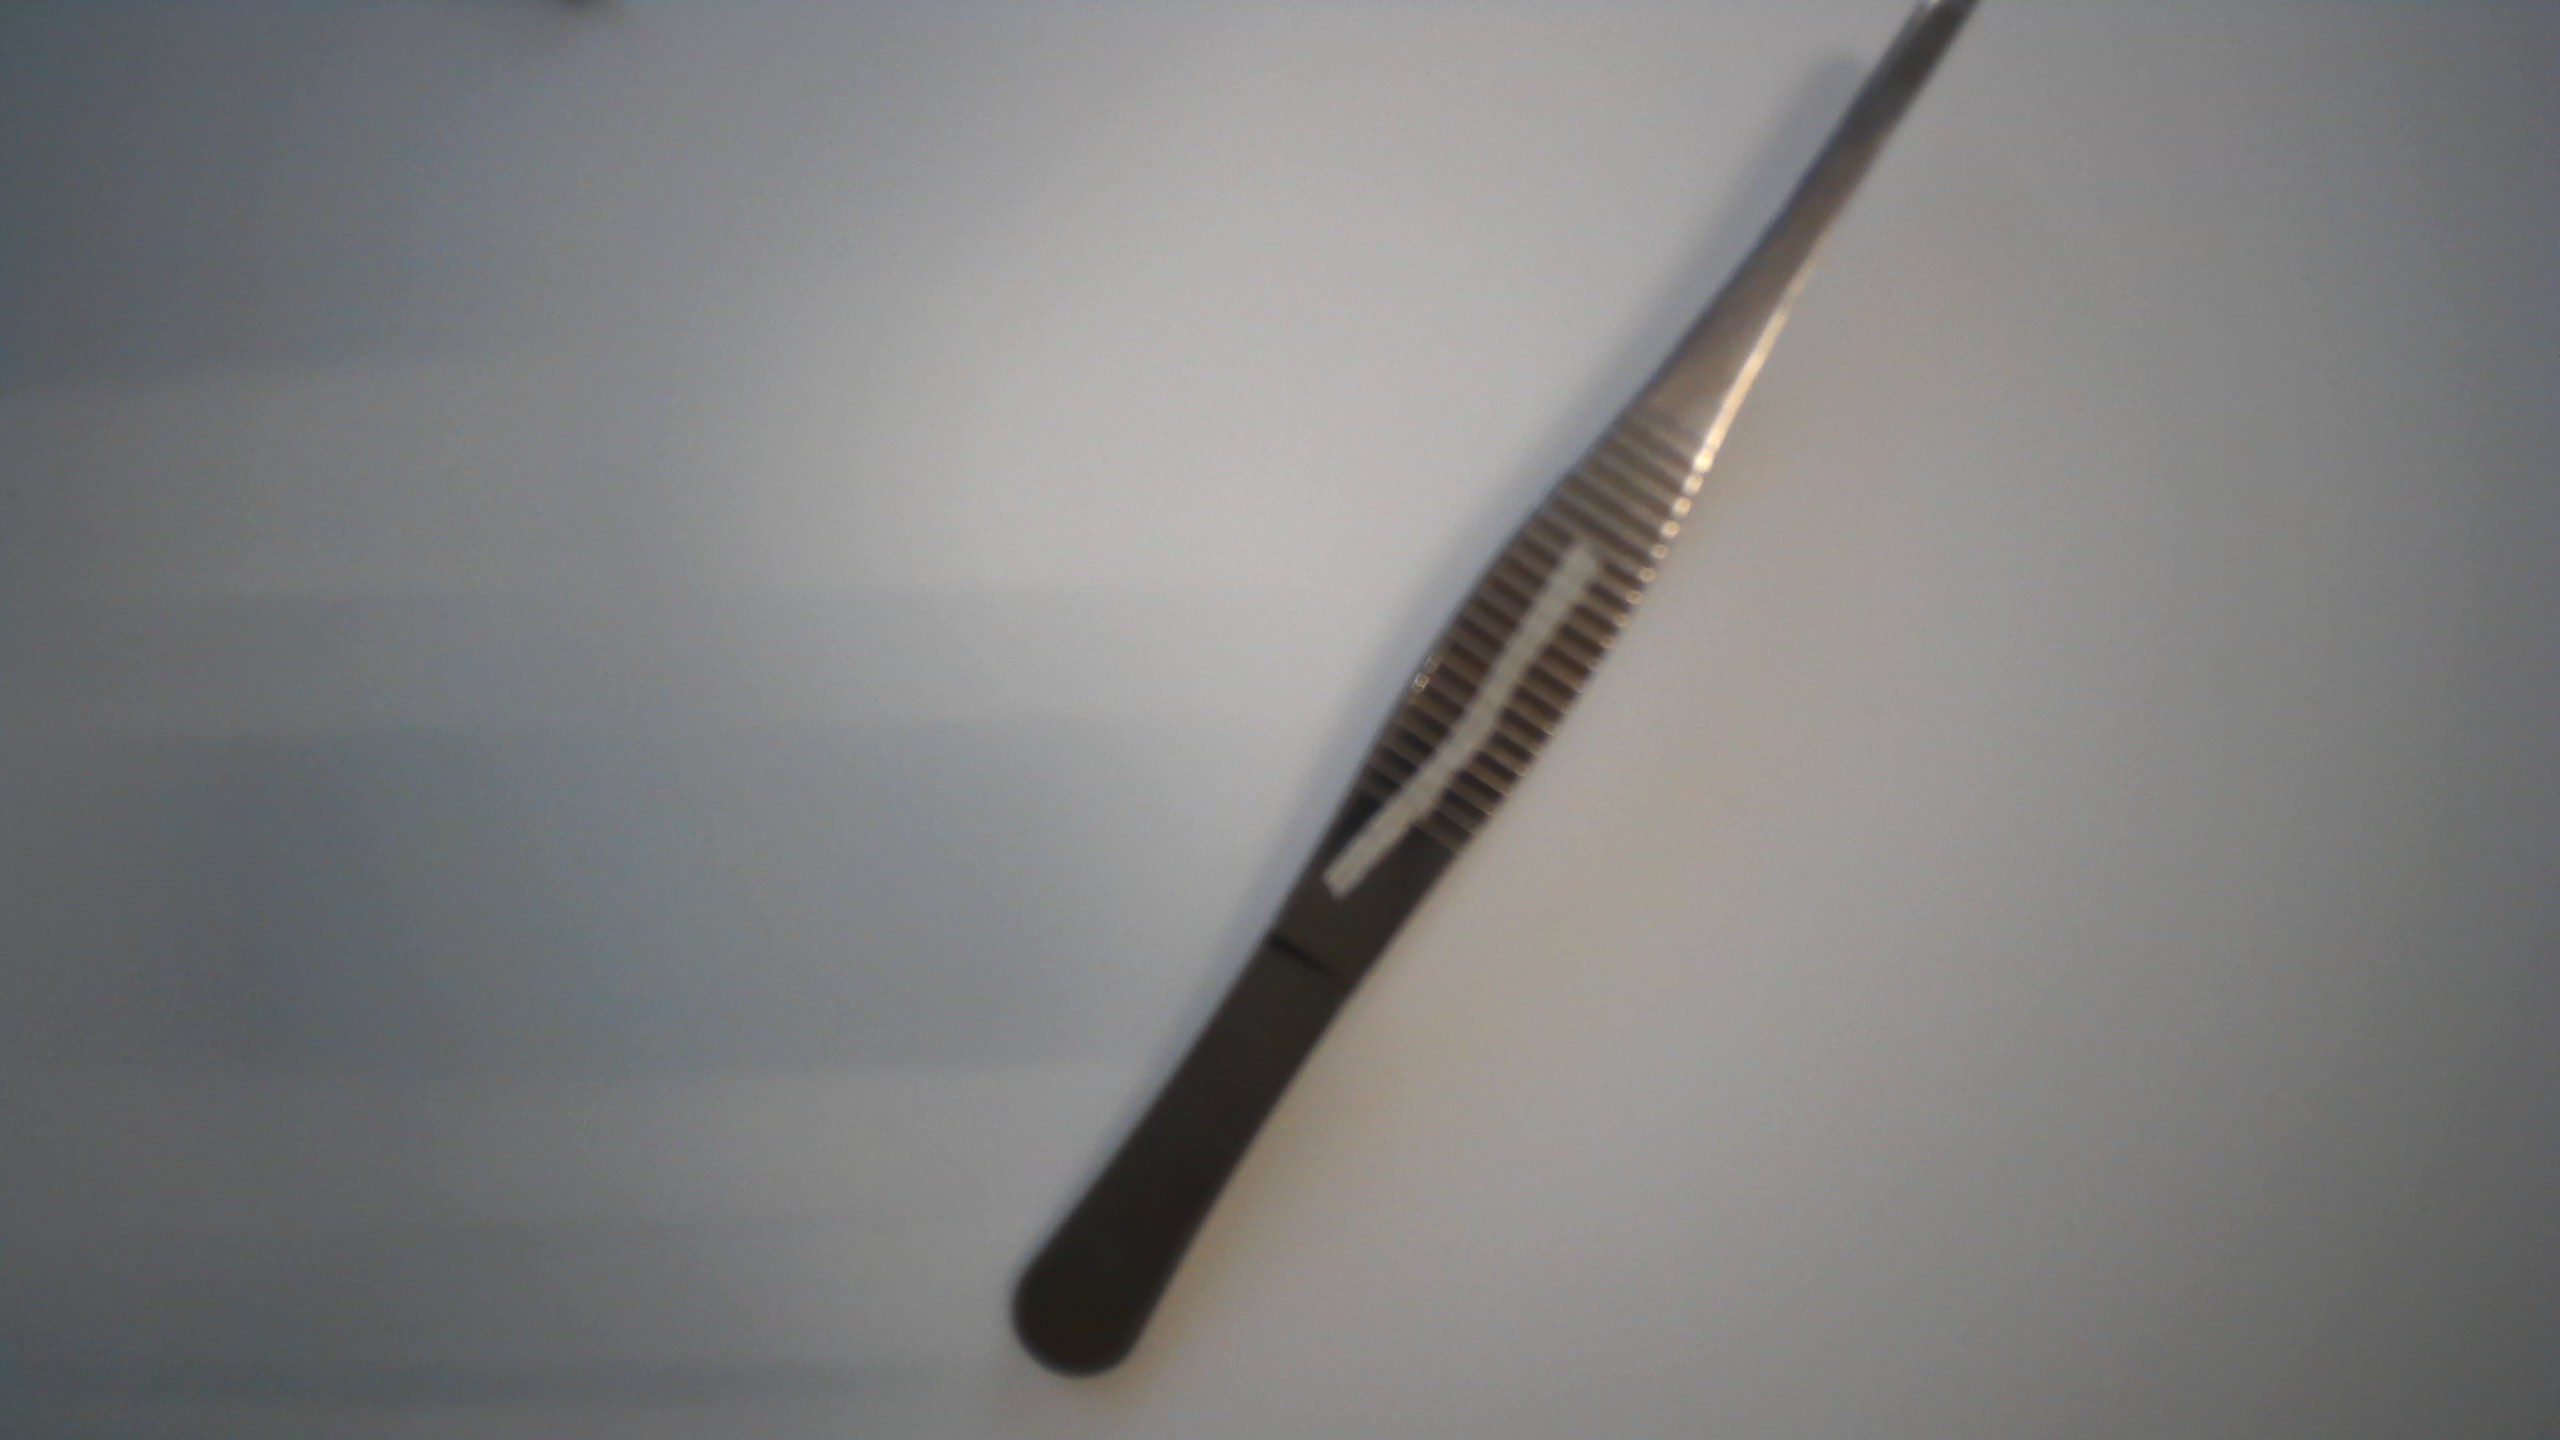Scratches: (1312, 527, 1619, 905)
